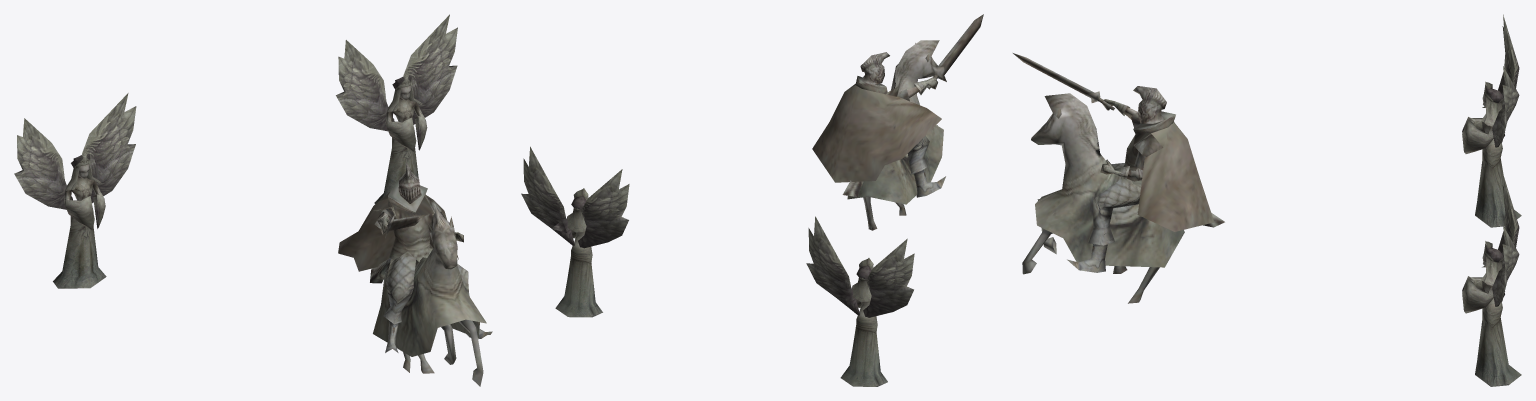
File: diaosi02.FBX
3 views of the same model, side by side, from view 1: azimuth 30°, elevation 25°; view 2: azimuth 150°, elevation 25°; view 3: azimuth 270°, elevation 25° (orthographic). The views are drawn at different scales.
Parts seen in each view (by area): view 1: M_a1; view 2: M_a1; view 3: M_a1.
Part boxes in pixels (x1,y1,x2,y2): M_a1: (14,14,492,386); M_a1: (521,14,983,386); M_a1: (1013,14,1521,386).
Size of the model in its own units: 455 by 209 by 447.
